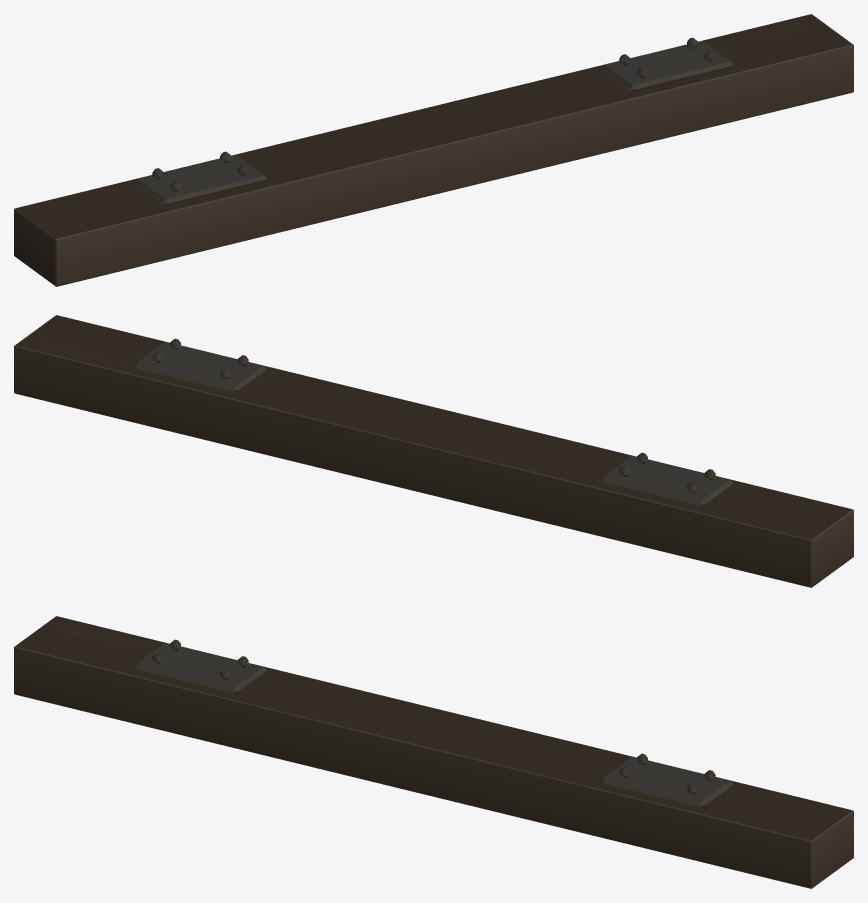
The model's file is travers.glb.
3 renders of one model, top to bottom at view 1: azimuth 30°, elevation 25°; view 2: azimuth 150°, elevation 25°; view 3: azimuth 330°, elevation 25°, orthographic.
Visible parts, largest first — view 1: wood-sleeper-001, dark-plates-001; view 2: wood-sleeper-001, dark-plates-001; view 3: wood-sleeper-001, dark-plates-001.
Boxes of the visible parts, x1,y1,x2,y2 form: wood-sleeper-001: (14, 14, 853, 286); dark-plates-001: (134, 37, 733, 205); wood-sleeper-001: (14, 315, 853, 587); dark-plates-001: (134, 338, 733, 506); wood-sleeper-001: (14, 616, 853, 888); dark-plates-001: (134, 639, 733, 807).
Bounding box in the file's own units: 2.6 × 0.2 × 0.24.
